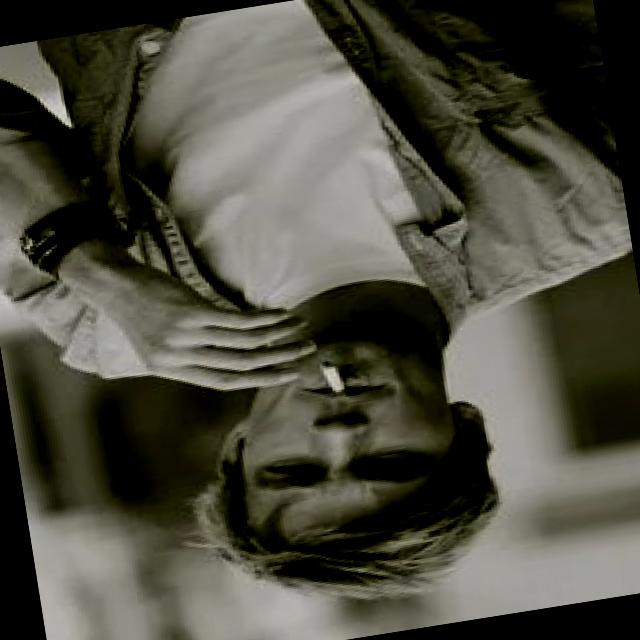cigarette: (316, 356, 355, 401)
